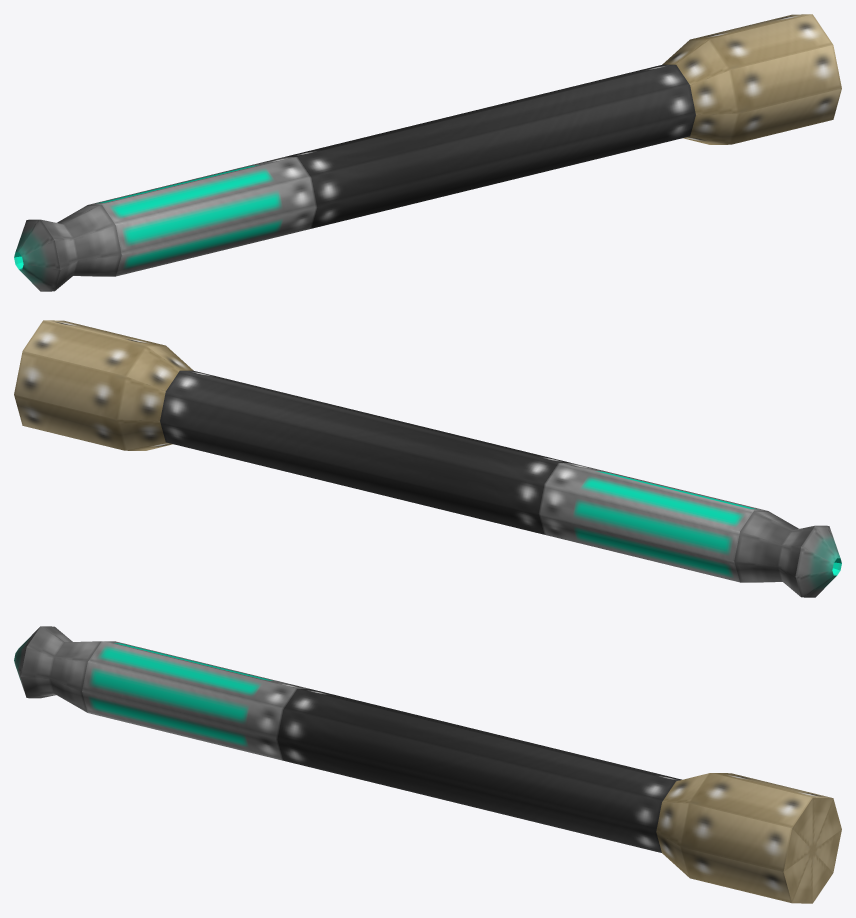
The model's file is laser.FBX.
3 renders of one model, top to bottom at view 1: azimuth 30°, elevation 25°; view 2: azimuth 150°, elevation 25°; view 3: azimuth 330°, elevation 25°, orthographic.
Parts seen in each view (by area): view 1: Laser; view 2: Laser; view 3: Laser.
Part boxes in pixels (x1,y1,x2,y2): Laser: (14, 14, 841, 291); Laser: (14, 320, 841, 597); Laser: (14, 626, 841, 903).
Bounding box in the file's own units: 69.13 × 8.81 × 8.81.
